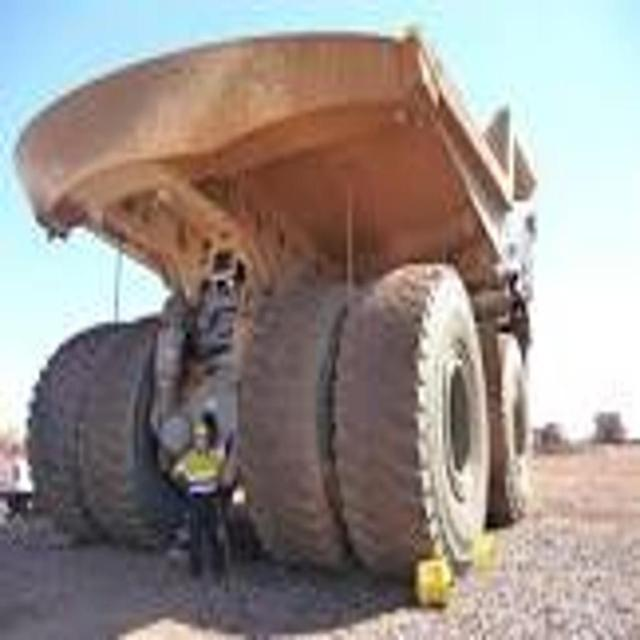dump_truck: (10, 28, 543, 525)
